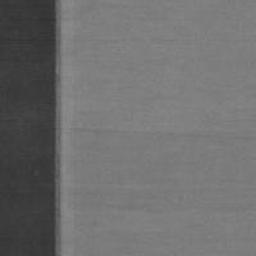Welding line: (52, 0, 64, 256)
